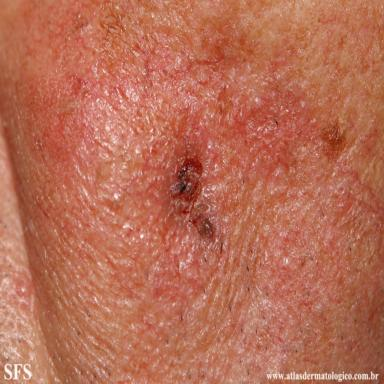basal-cell-carcinoma: (170, 146, 220, 242)
